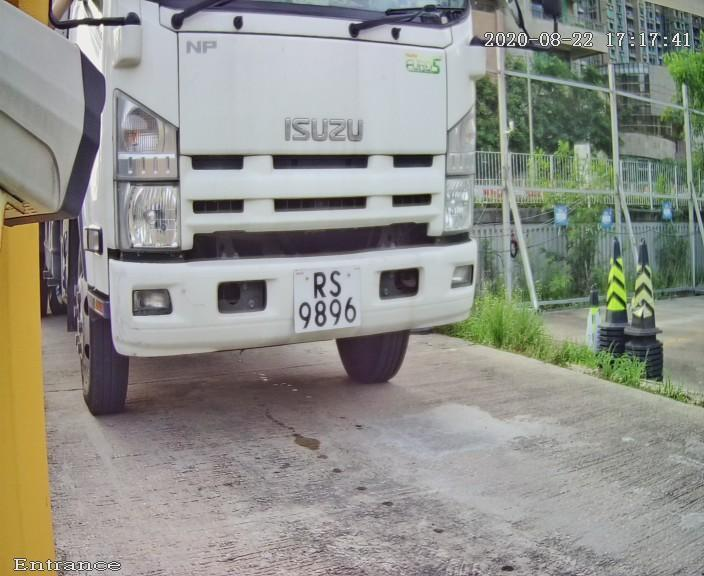License Plate: (256, 238, 387, 347)
